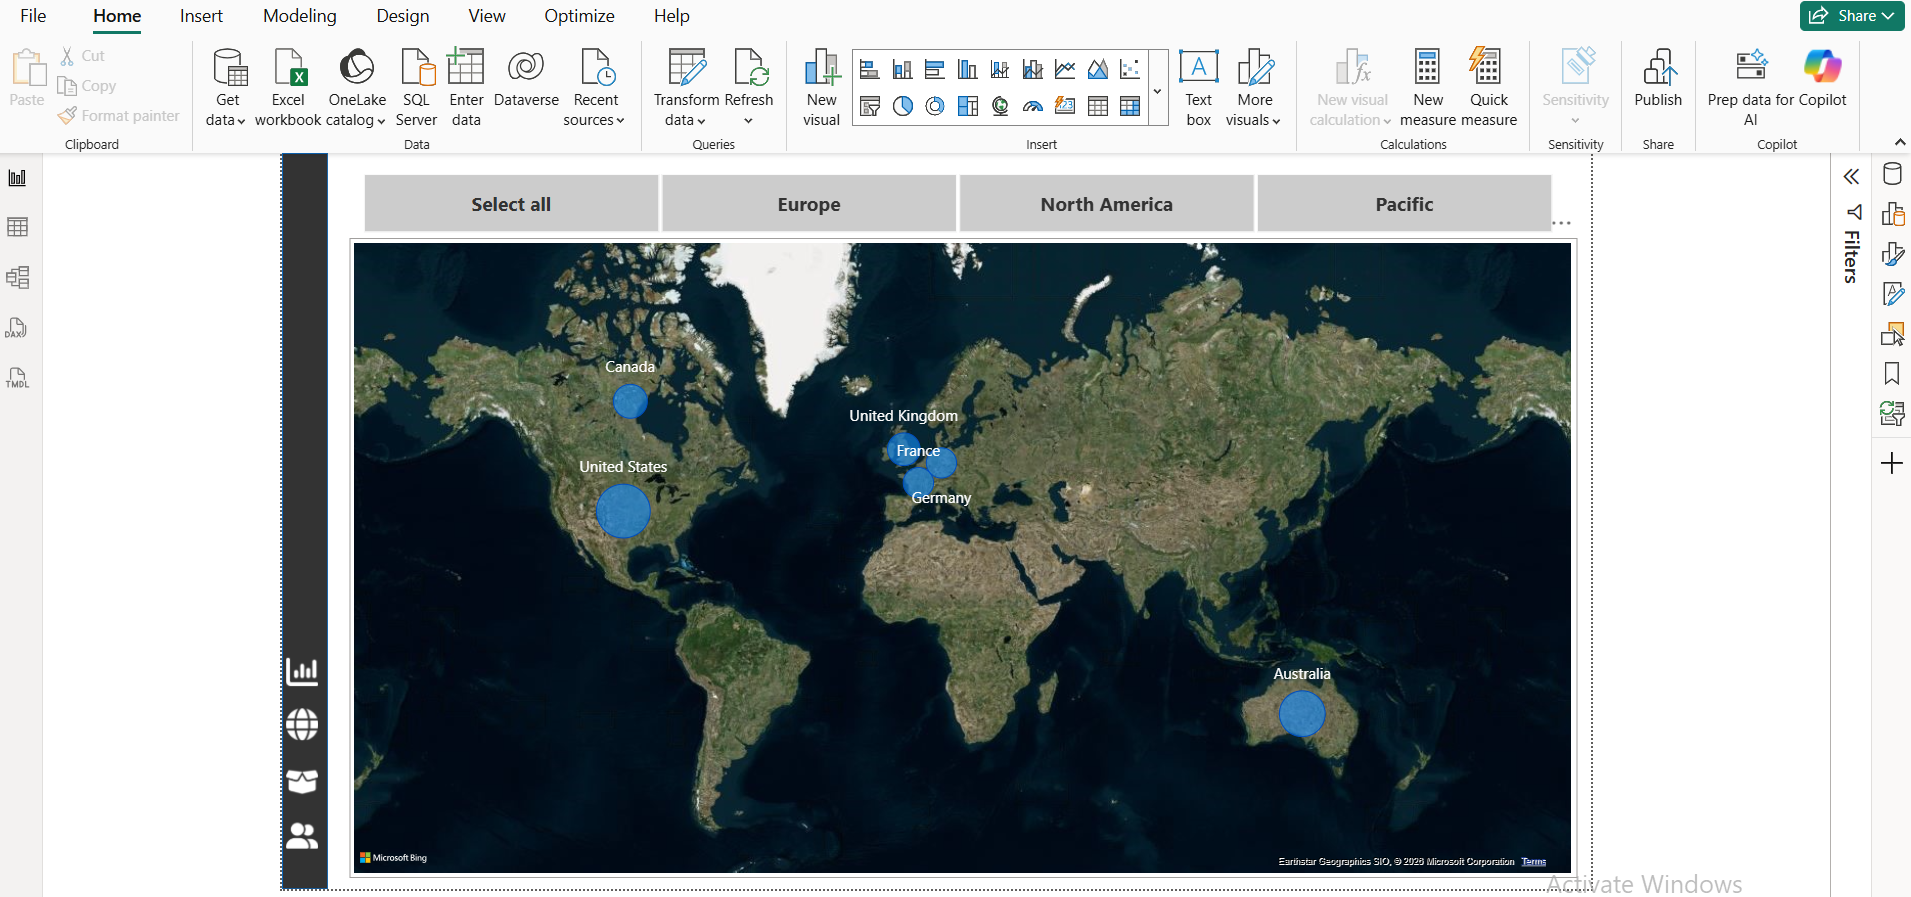

What the dashboard file says about the page in this screenshot:
{"tool":"powerbi","page":{"name":"Map","canvas":[1280,720],"ordinal":1},"visuals":[{"type":"shape","box":[0,0,45,720.3],"z":0},{"type":"actionButton","box":[0,487.8,45.5,39.6],"z":0,"group":"g1"},{"type":"map","fields":{"Category":["Territory Lookup.Country"],"Size":["Measure Table.Total Orders"]},"box":[66.5,83.4,1200.4,625.6],"z":1000},{"type":"actionButton","box":[0,539.3,45.5,39.6],"z":1000,"group":"g1"},{"type":"slicer","fields":{"Values":["Territory Lookup.Continent"]},"box":[53.9,13.2,1212.9,70.7],"z":2000},{"type":"actionButton","box":[0,595.1,45.5,39.6],"z":2000,"group":"g1"},{"type":"group","id":"g1","title":"Navigation Buttons","box":[0,487.8,45.5,199.9],"z":2001},{"type":"actionButton","box":[0,648.1,45.5,39.6],"z":3000,"group":"g1"}]}

Visuals, with their boxes on the page's 1280x720 design canvas (x1, y1, x2, y2). These are canvas units, not pixel positions in the 1911x897 screenshot, which may show the page scaled, cropped or inside an application window:
shape: left=0, top=0, right=45, bottom=720
actionButton: left=0, top=488, right=46, bottom=527
map - Territory Lookup.Country x Measure Table.Total Orders: left=66, top=83, right=1267, bottom=709
actionButton: left=0, top=539, right=46, bottom=579
slicer - Territory Lookup.Continent: left=54, top=13, right=1267, bottom=84
actionButton: left=0, top=595, right=46, bottom=635
"Navigation Buttons" group: left=0, top=488, right=46, bottom=688
actionButton: left=0, top=648, right=46, bottom=688
